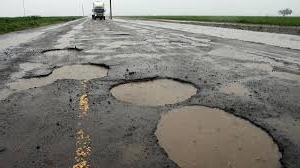pothole: (141, 104, 289, 167), (103, 71, 206, 106), (11, 61, 111, 91), (40, 43, 86, 57)
